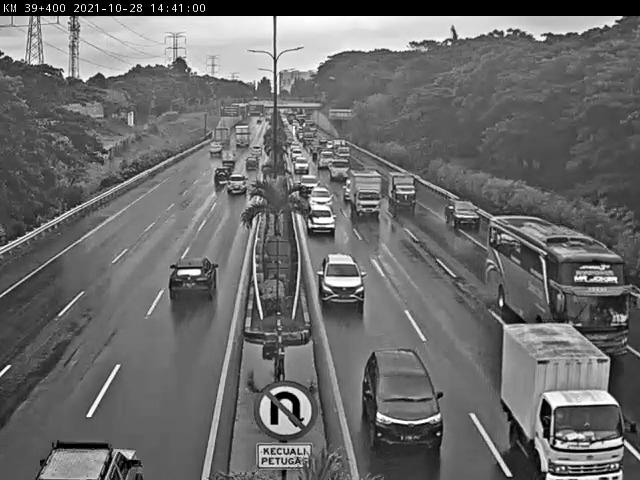big bus: (485, 215, 631, 359)
car: (359, 348, 447, 451), (316, 252, 365, 307), (167, 256, 217, 301), (445, 197, 483, 229), (304, 203, 334, 235)
mid truck: (502, 320, 629, 480), (350, 168, 383, 217), (386, 169, 416, 208), (308, 185, 334, 208)
